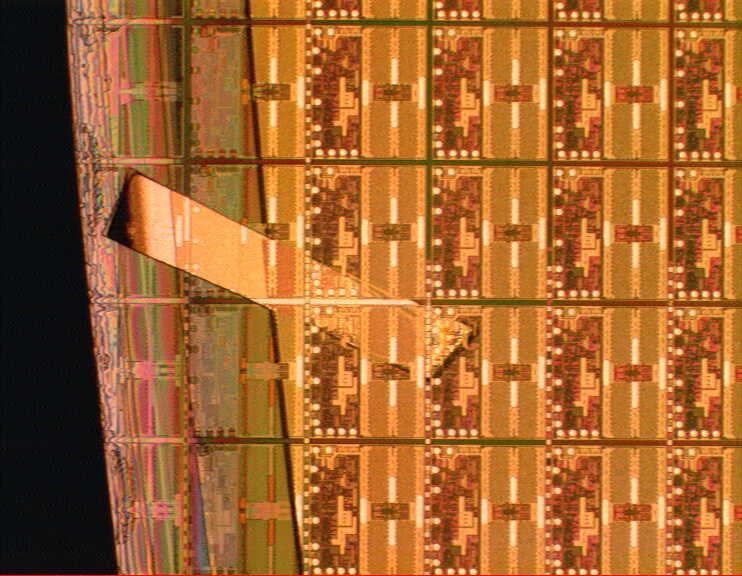BLOCK ETCH: (98, 163, 484, 388)
